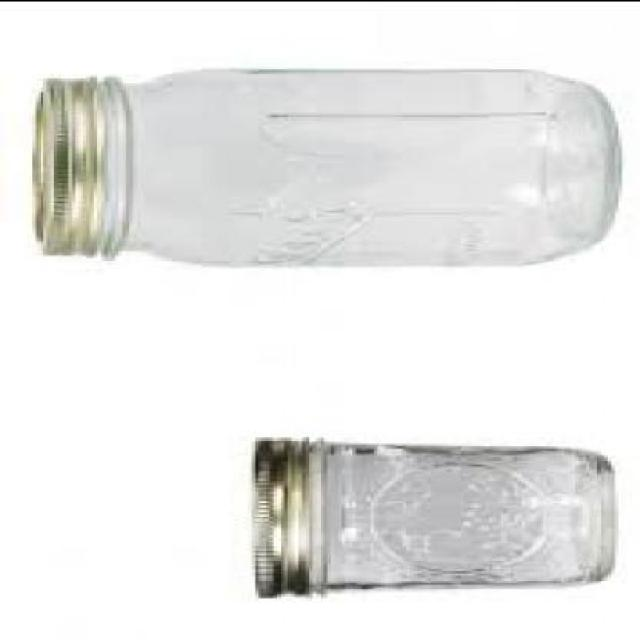GLASS: (94, 63, 618, 263), (306, 438, 614, 585)
METAL: (32, 75, 100, 252), (248, 434, 320, 594)
